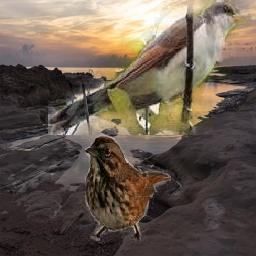Cuckoo: (48, 1, 252, 136)
Sparrow: (85, 133, 171, 241)
